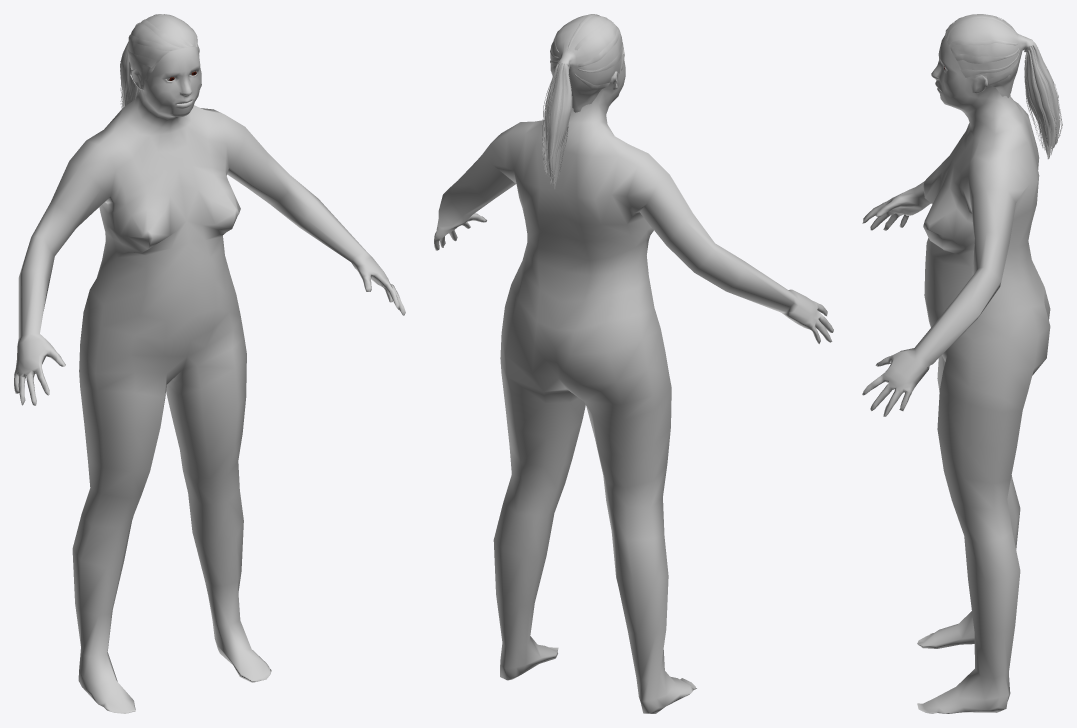
File: npc12.fbx
3 views of the same model, side by side, from view 1: azimuth 30°, elevation 25°; view 2: azimuth 150°, elevation 25°; view 3: azimuth 270°, elevation 25° (orthographic). The views are drawn at different scales.
Parts seen in each view (by area): view 1: female1605Mesh, ponytail01Mesh; view 2: female1605Mesh, ponytail01Mesh; view 3: female1605Mesh, ponytail01Mesh.
Boxes of the visible parts, x1=… form: female1605Mesh: x1=14, y1=47, x2=405, y2=713; ponytail01Mesh: x1=120, y1=14, x2=199, y2=109; female1605Mesh: x1=434, y1=48, x2=833, y2=713; ponytail01Mesh: x1=542, y1=14, x2=624, y2=189; female1605Mesh: x1=862, y1=35, x2=1050, y2=713; ponytail01Mesh: x1=945, y1=14, x2=1062, y2=159.
Size of the model in its own units: 10.21 by 16.8 by 4.62.
